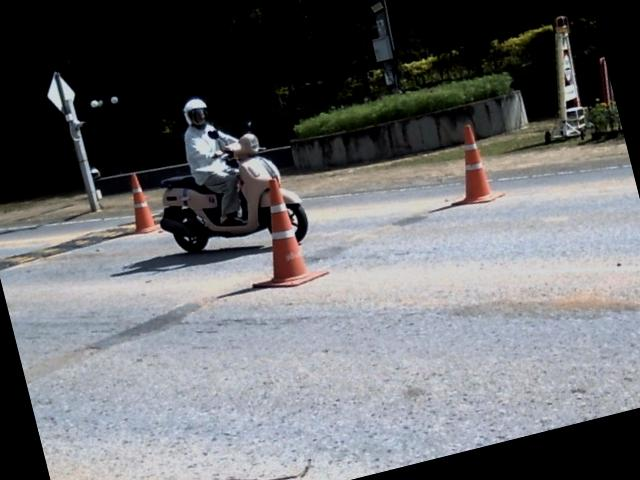helmet: (181, 97, 208, 125)
motor: (160, 133, 280, 252), (280, 188, 307, 241)
person: (183, 97, 239, 225)
